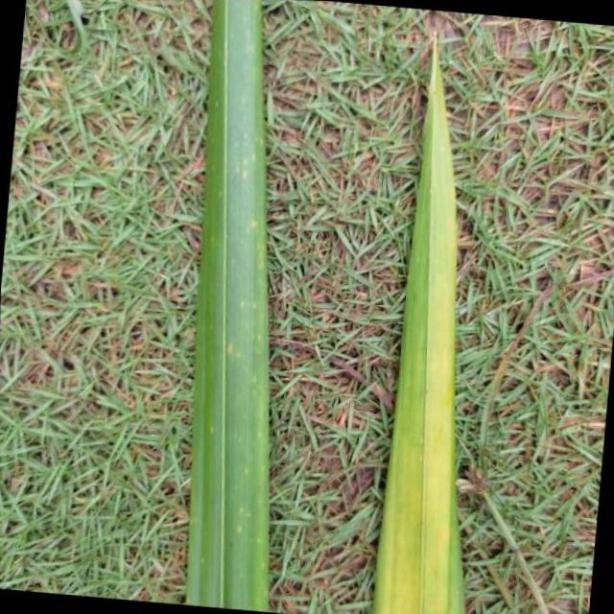nitrogen: (376, 30, 468, 614), (189, 0, 268, 614)
